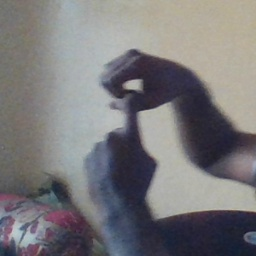Q: (81, 49, 183, 194)
